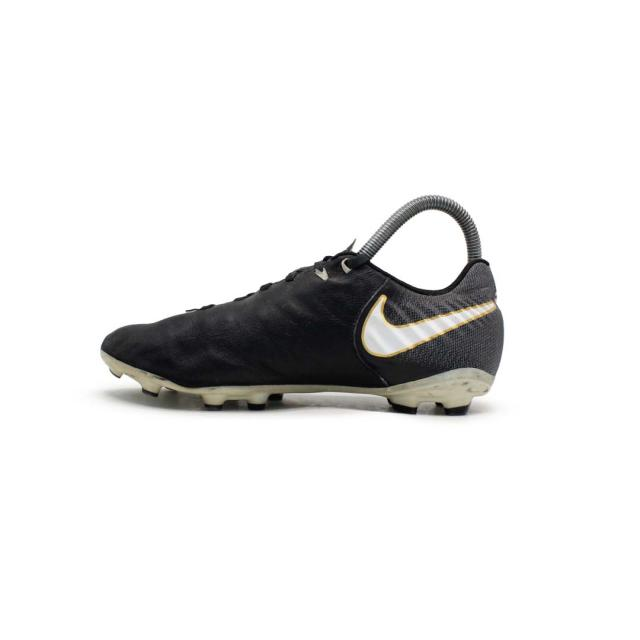heel: (457, 259, 501, 375)
midsole: (99, 346, 495, 417)
uppersole: (98, 247, 461, 385)
